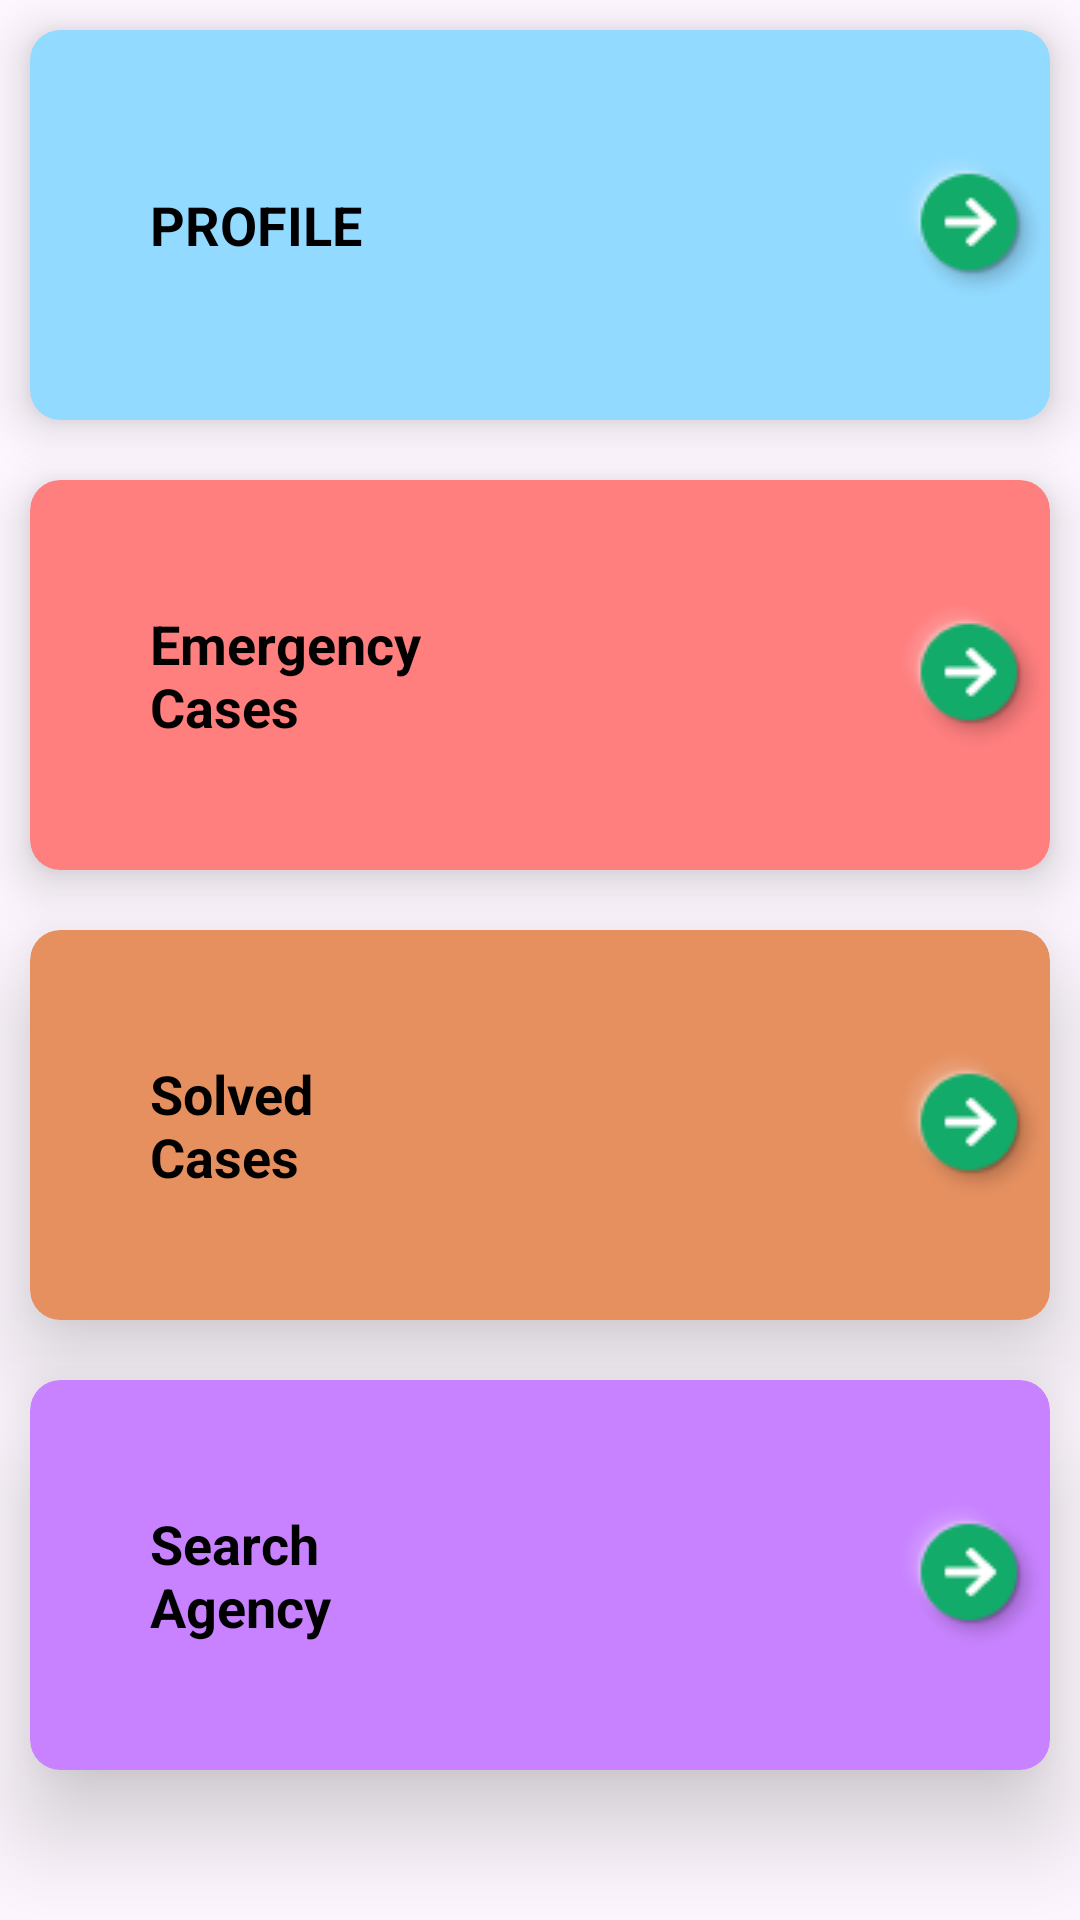

Icon click points for this 1080px x 1920px phone screenshot, format (x=x, y=y):
arrow: (x=972, y=225), (x=972, y=675), (x=970, y=1124), (x=972, y=1575)
